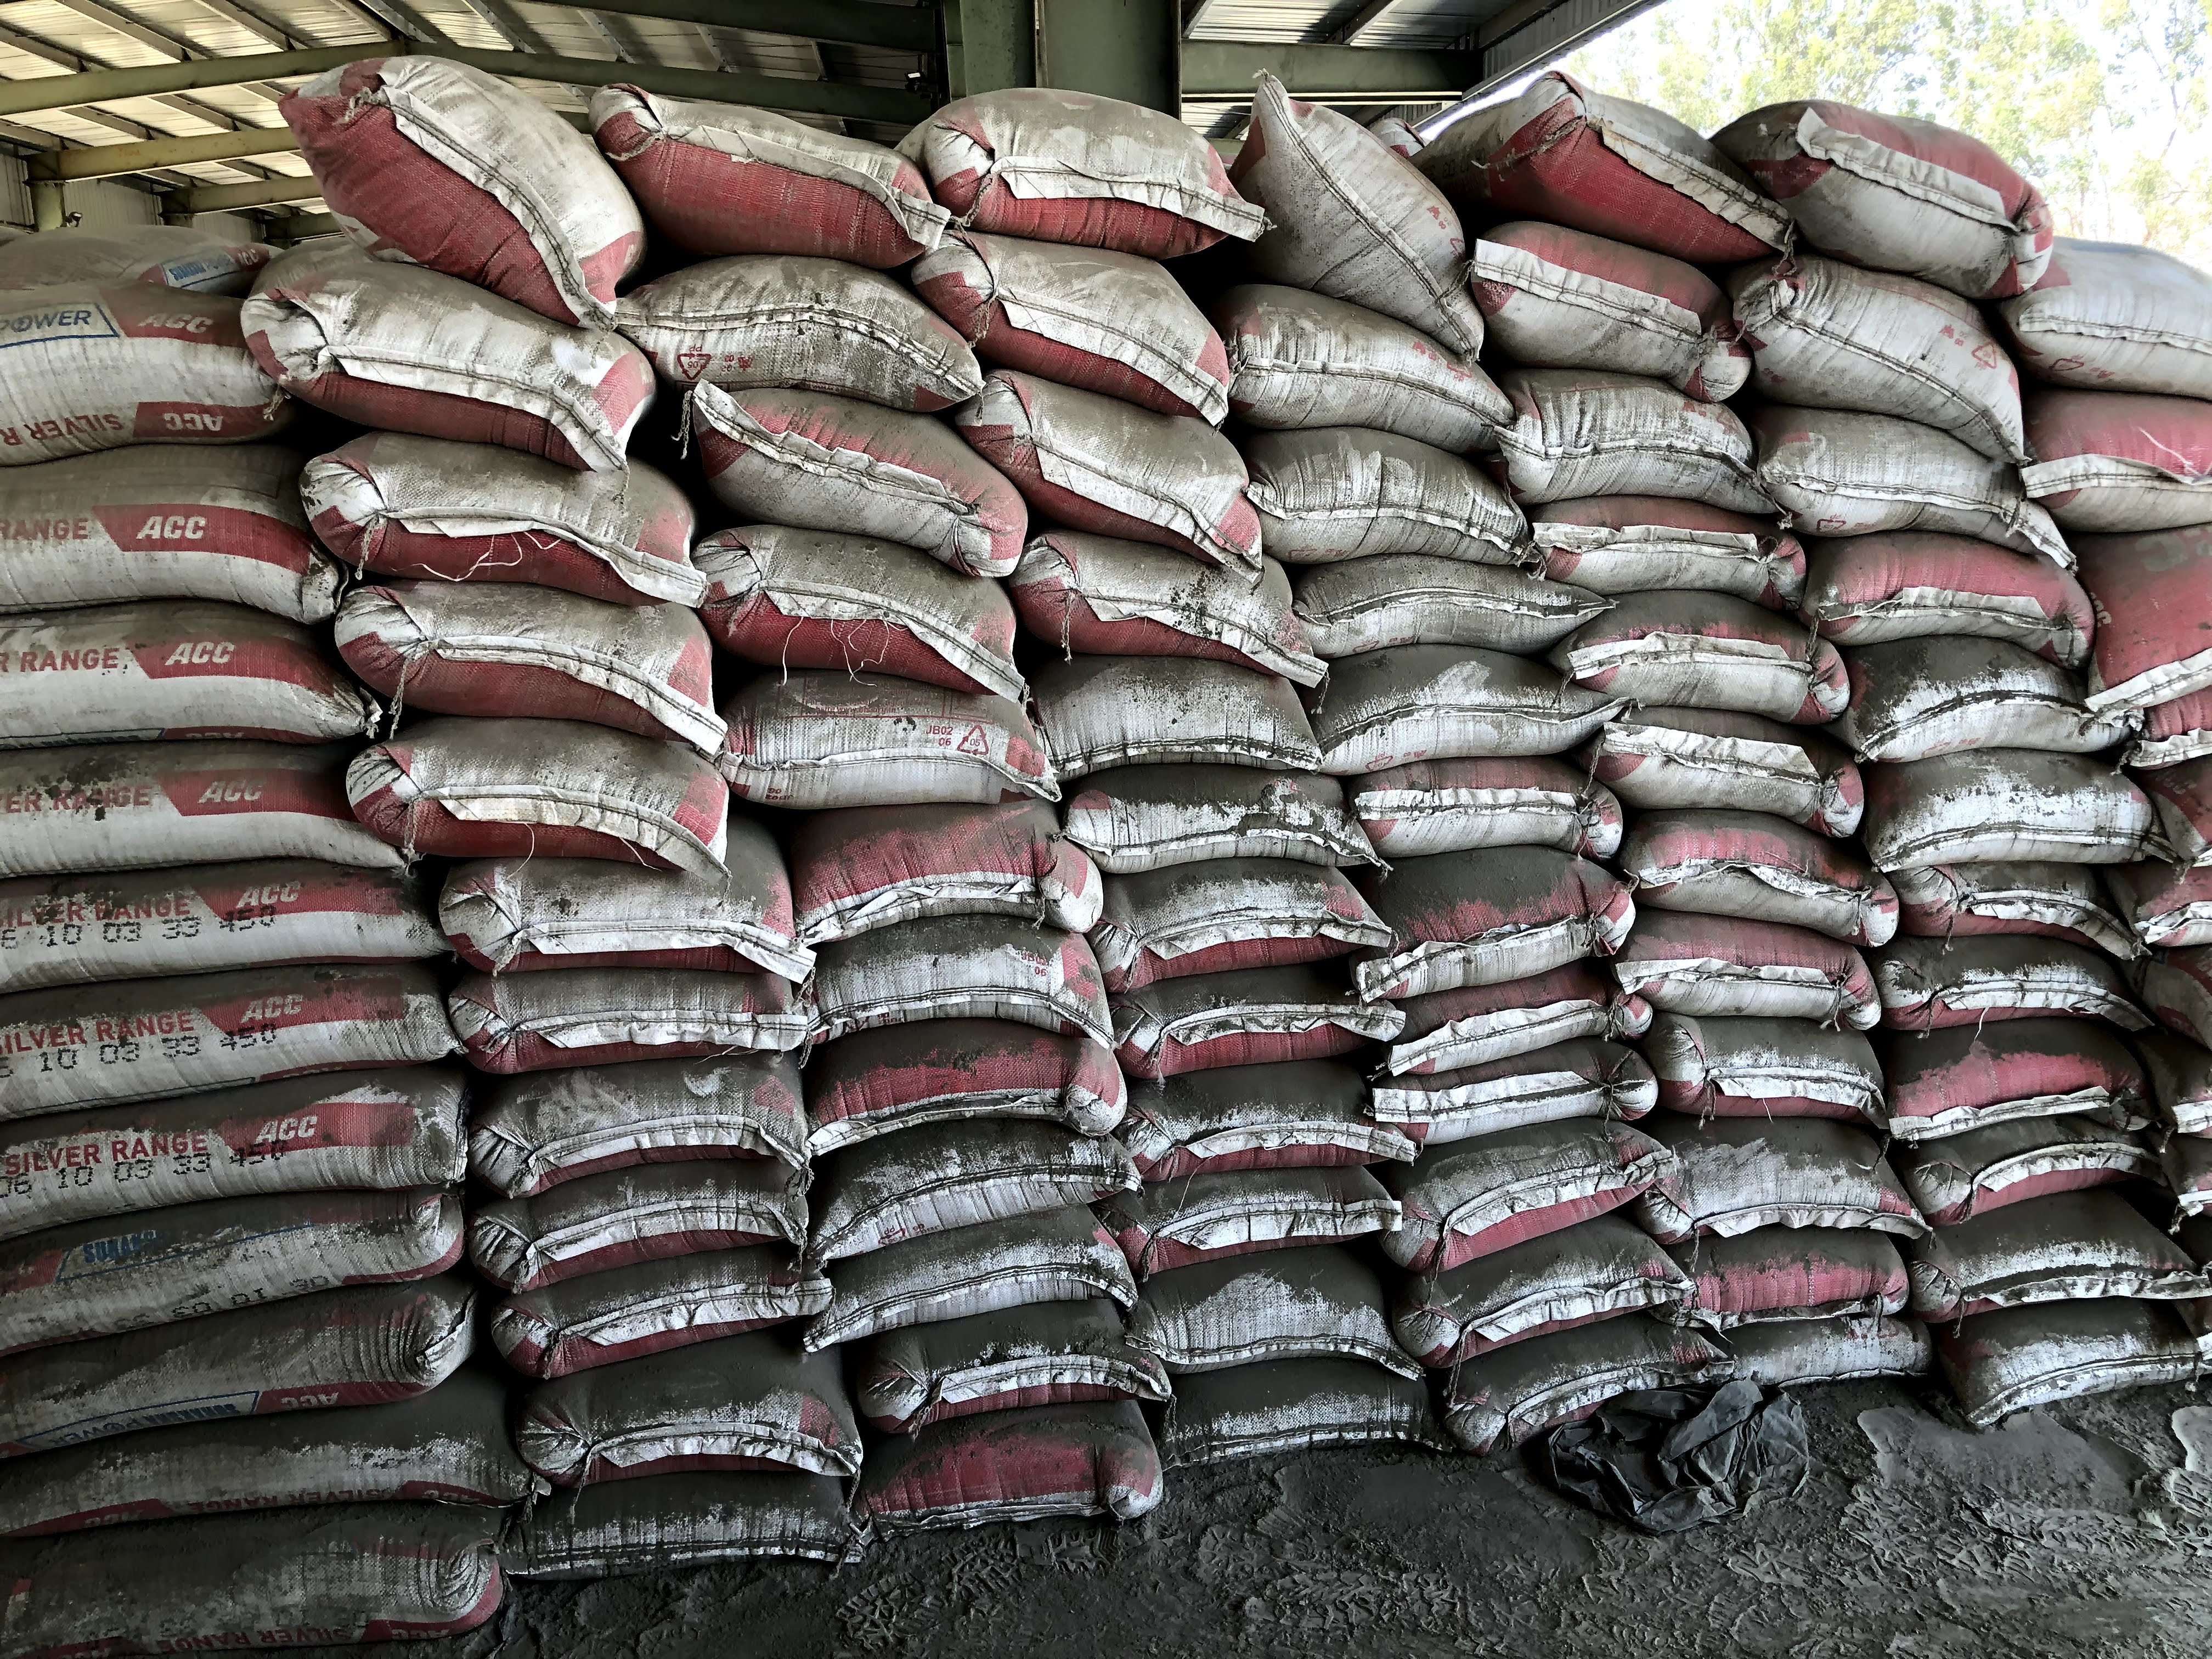cement bag: (303, 30, 617, 303), (307, 420, 693, 603), (643, 84, 960, 307), (907, 77, 1270, 254), (373, 721, 728, 880), (1270, 91, 1491, 336), (1524, 59, 1796, 258), (704, 383, 1017, 554), (970, 216, 1242, 406), (752, 694, 1101, 833), (1486, 216, 1743, 383), (509, 1459, 855, 1572), (479, 1047, 808, 1162), (514, 1349, 855, 1459), (1036, 512, 1294, 657), (752, 554, 1017, 694), (307, 303, 617, 420), (1667, 1110, 1919, 1244), (1581, 619, 1867, 737), (880, 1424, 1170, 1539), (1501, 397, 1771, 521), (1881, 1032, 2155, 1152), (822, 833, 1101, 948), (1123, 1249, 1395, 1366), (1118, 1061, 1390, 1171), (838, 1044, 1113, 1152), (1066, 760, 1367, 857), (1529, 507, 1801, 612), (514, 1243, 779, 1349), (822, 948, 1113, 1044), (874, 1330, 1170, 1424), (1372, 864, 1630, 972), (1263, 439, 1510, 551), (1143, 857, 1367, 979), (1123, 1366, 1453, 1448), (1372, 647, 1568, 781), (1449, 1249, 1696, 1352), (479, 972, 808, 1047), (1919, 871, 2148, 979), (874, 1229, 1118, 1330), (479, 1162, 779, 1243), (1066, 657, 1294, 760), (1263, 336, 1491, 439), (1743, 301, 2029, 383), (1453, 1352, 1696, 1448), (1385, 1056, 1653, 1143), (446, 880, 728, 962), (1796, 164, 2040, 258), (1299, 570, 1581, 650), (1629, 723, 1839, 828), (1036, 406, 1242, 512), (1118, 1171, 1395, 1249), (1449, 1143, 1653, 1249), (1644, 932, 1878, 1025), (838, 1152, 1118, 1229), (380, 612, 721, 674), (1639, 828, 1867, 918), (1385, 972, 1630, 1056), (1939, 1234, 2188, 1316), (1143, 979, 1390, 1061), (704, 307, 960, 383), (1944, 1340, 2196, 1417), (1867, 652, 2092, 737), (1771, 446, 2026, 521), (1839, 765, 2141, 828), (1801, 547, 2087, 612), (1667, 1025, 1878, 1110), (1867, 852, 2134, 918), (1947, 1134, 2167, 1215), (1768, 1310, 1947, 1406), (1710, 1243, 1905, 1330), (1905, 965, 2155, 1032), (1372, 781, 1604, 843)
